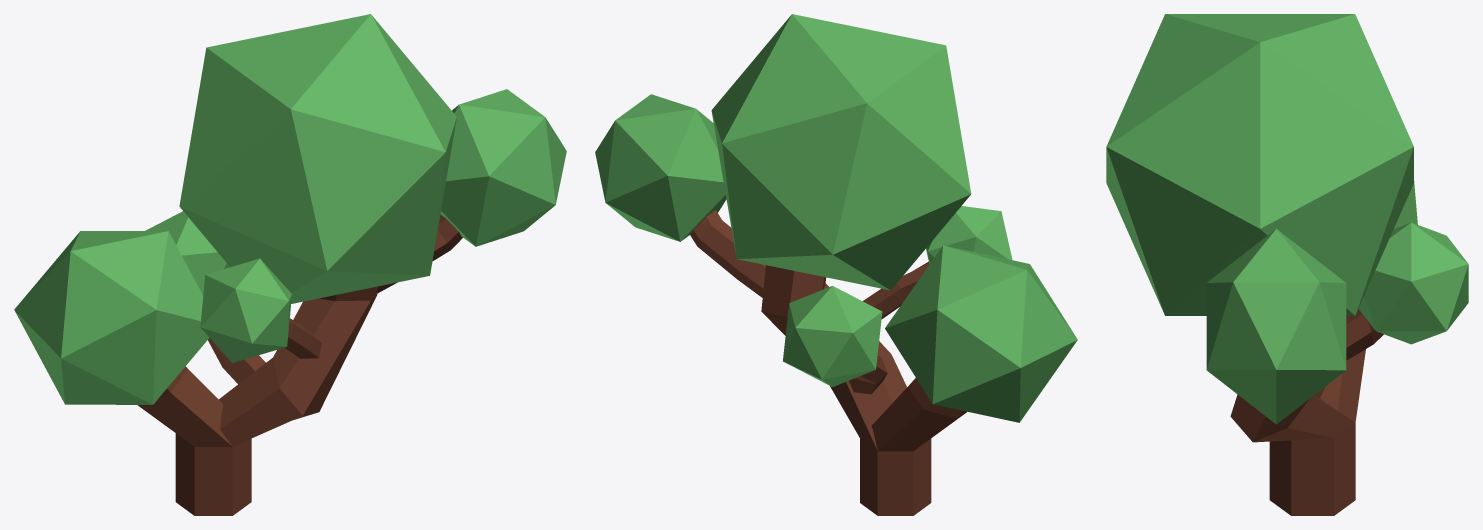
The model's file is Arbol.fbx.
3 renders of one model, left to right at view 1: azimuth 30°, elevation 25°; view 2: azimuth 150°, elevation 25°; view 3: azimuth 270°, elevation 25°, orthographic. The views are drawn at different scales.
Parts seen in each view (by area): view 1: Arbol1; view 2: Arbol1; view 3: Arbol1.
Boxes of the visible parts, left/top/right/bottom form: Arbol1: left=14, top=14, right=566, bottom=515; Arbol1: left=595, top=14, right=1077, bottom=515; Arbol1: left=1106, top=14, right=1468, bottom=515.
Size of the model in its own units: 1547 by 1367 by 844.
